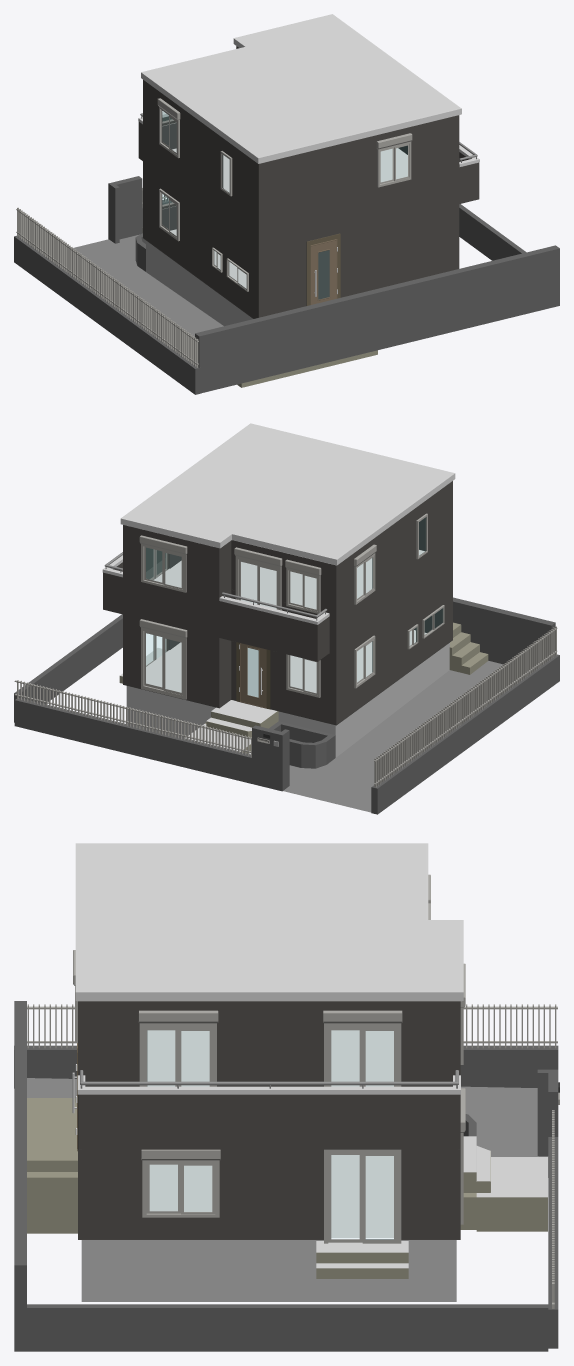
File: tokyo-house-d.glb
3 renders of one model, top to bottom at view 1: azimuth 30°, elevation 25°; view 2: azimuth 150°, elevation 25°; view 3: azimuth 270°, elevation 25°, orthographic. The views are drawn at different scales.
Parts seen in each view (by area): view 1: Casa_1, Muro_atr, Muro_2, Plane, Muro_1, Muro_3, Puerta.001, Suelo_piso_A, Cube.001, Marco_puerta.001, Escaleras_D, Ventana.013 (+1 smaller); view 2: Casa_1, Muro_1, Plane, Muro_2, Muro_atr, Suelo_Piso_B, Muro_3, Suelo_piso_A, Maceta, Escaleras_A, Puerta, Ventana.004 (+11 smaller); view 3: Casa_1, Muro_3, Suelo_Piso_B, Escaleras_D, Suelo_piso_A, Plane, Muro_2, Escaleras_2, Muro_atr, Muro_1, Baranda_S.001, Escalon (+9 smaller).
Boxes of the visible parts, x1,y1,x2,y2 form: Casa_1: (138, 14, 479, 326); Muro_atr: (195, 245, 559, 393); Muro_2: (14, 235, 201, 394); Plane: (73, 234, 223, 337); Muro_1: (108, 176, 171, 243); Muro_3: (459, 204, 526, 260); Puerta.001: (310, 239, 337, 304); Suelo_piso_A: (172, 148, 407, 192); Cube.001: (162, 206, 329, 299); Marco_puerta.001: (306, 233, 340, 305); Escaleras_D: (237, 350, 377, 387); Ventana.013: (377, 141, 411, 187); Casa_1: (103, 423, 455, 757); Muro_1: (14, 698, 289, 791); Plane: (283, 661, 502, 812); Muro_2: (371, 654, 559, 814); Muro_atr: (453, 597, 555, 664); Suelo_Piso_B: (146, 630, 426, 697); Muro_3: (14, 614, 122, 722); Suelo_piso_A: (153, 550, 424, 609); Maceta: (269, 721, 335, 768); Escaleras_A: (206, 700, 278, 737); Puerta: (239, 643, 266, 708); Ventana.004: (141, 627, 186, 699); Casa_1: (75, 843, 463, 1301); Muro_3: (27, 1304, 548, 1351); Suelo_Piso_B: (149, 1155, 393, 1237); Escaleras_D: (27, 1098, 77, 1233); Suelo_piso_A: (147, 1030, 393, 1086); Plane: (27, 1078, 548, 1177); Muro_2: (14, 1045, 558, 1088); Escaleras_2: (463, 1157, 547, 1231); Muro_atr: (14, 1001, 26, 1351); Muro_1: (537, 1069, 558, 1348); Baranda_S.001: (77, 1075, 460, 1094); Escalon: (316, 1241, 408, 1278).
Bounding box in the file's own units: 1369 × 752 × 1182.
